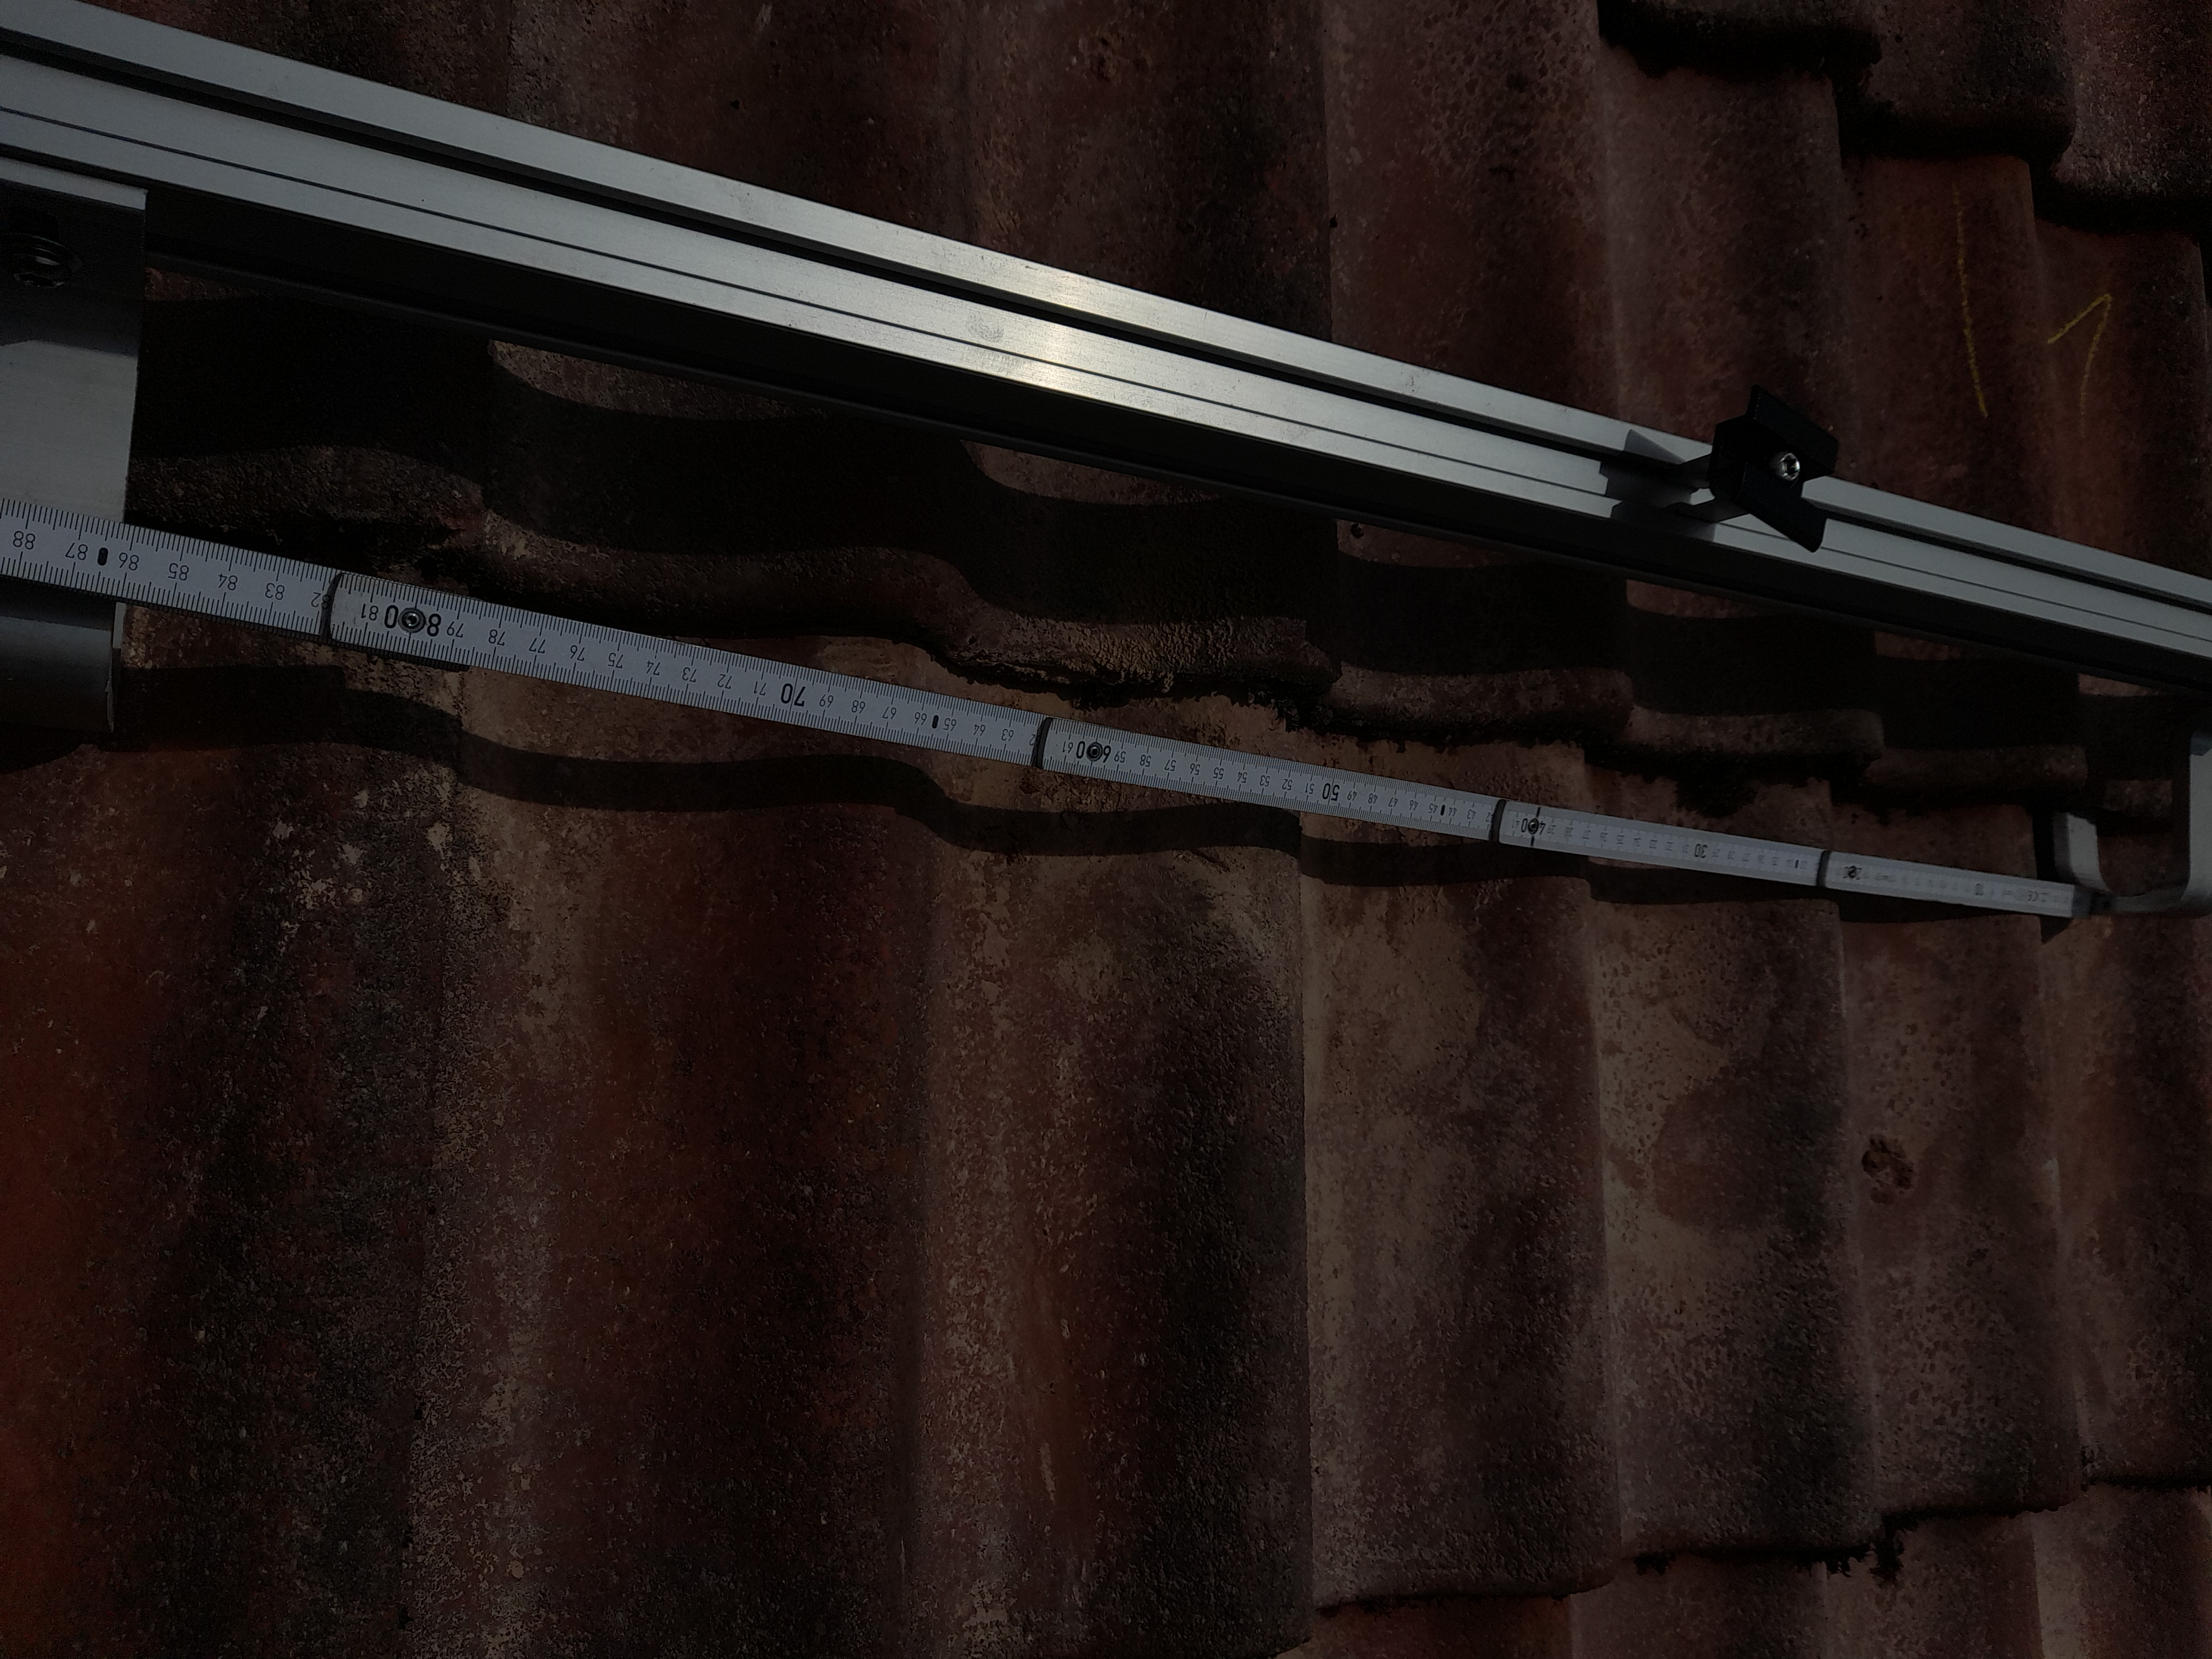hook: (0, 141, 148, 735), (2054, 699, 2209, 917)
